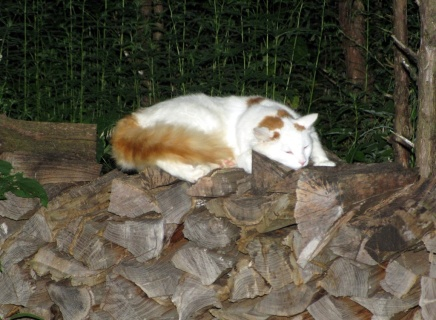Cat: (109, 91, 336, 183)
